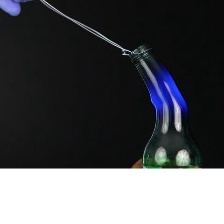bottle: (123, 42, 208, 172)
